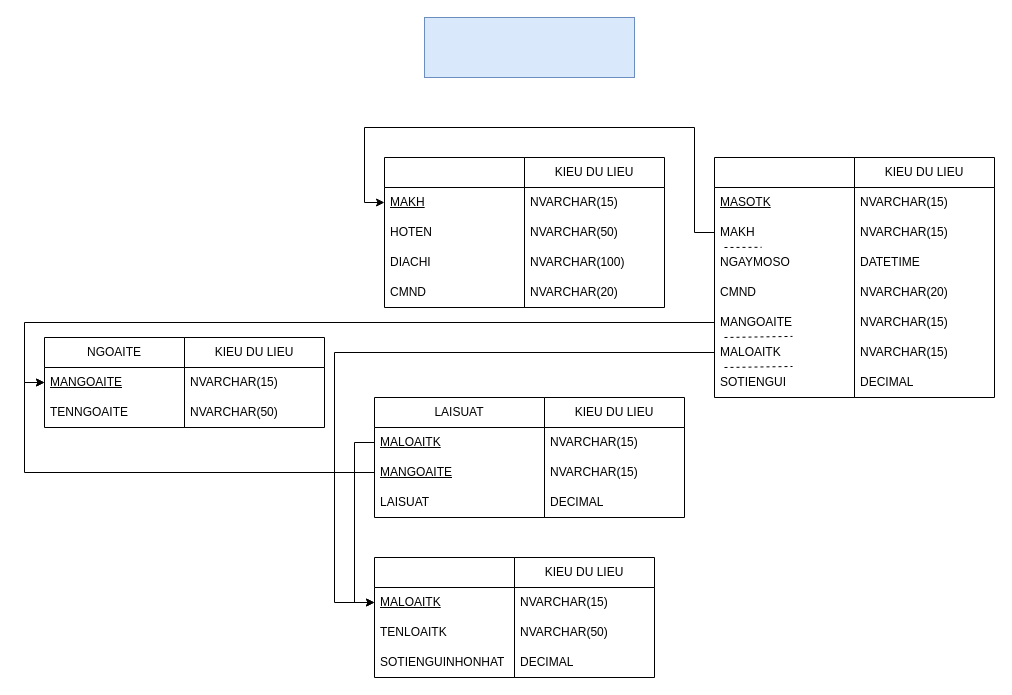
Image size: 1012x695. Some labels were removed from this diagram. The shapes that lost their labels are listed below. From the top down, each one's box as (x1, y1, x2, y2) in pixels, then its label:
(424, 16, 634, 78): CSDL: QL TIET KIEM
(384, 156, 524, 308): KHACHHANG
(714, 156, 854, 398): SOTIETKIEM
(374, 556, 514, 678): LOAITIETKIEM
